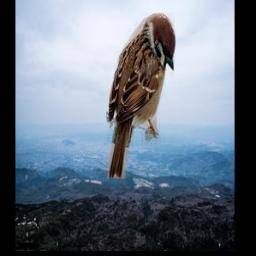Sparrow: (107, 14, 176, 179)
